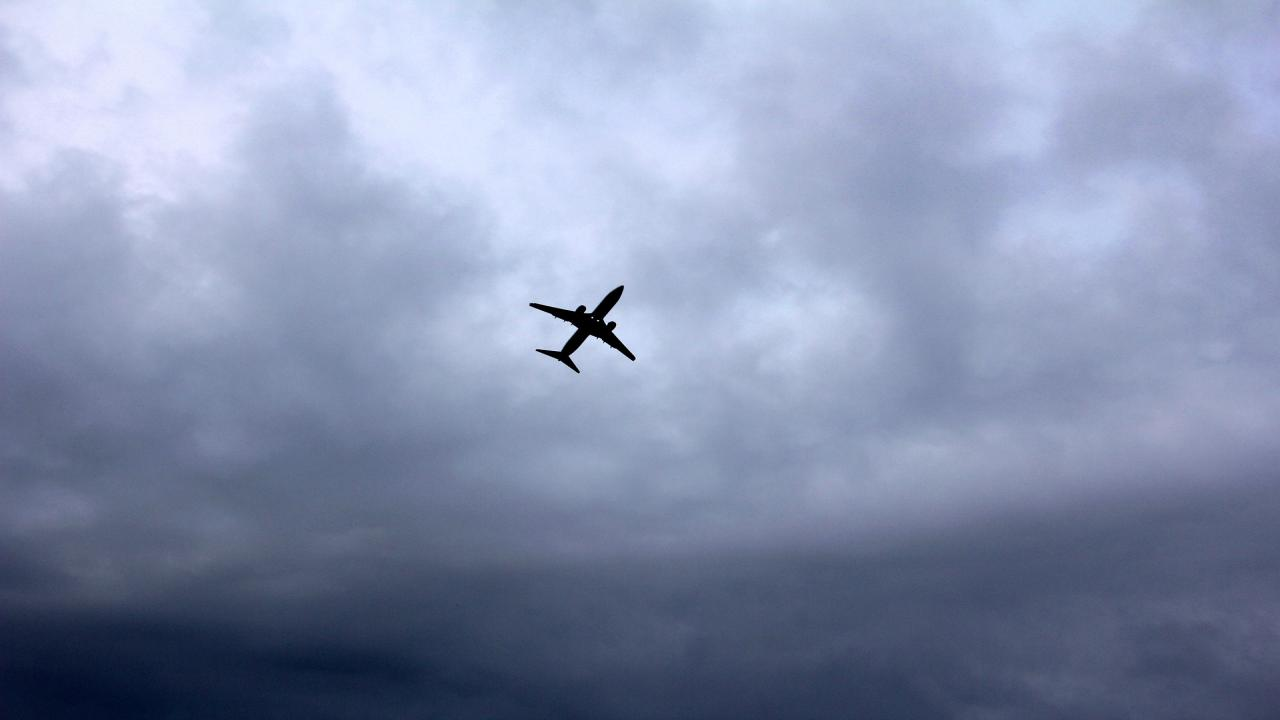Airplane: (518, 280, 645, 377)
